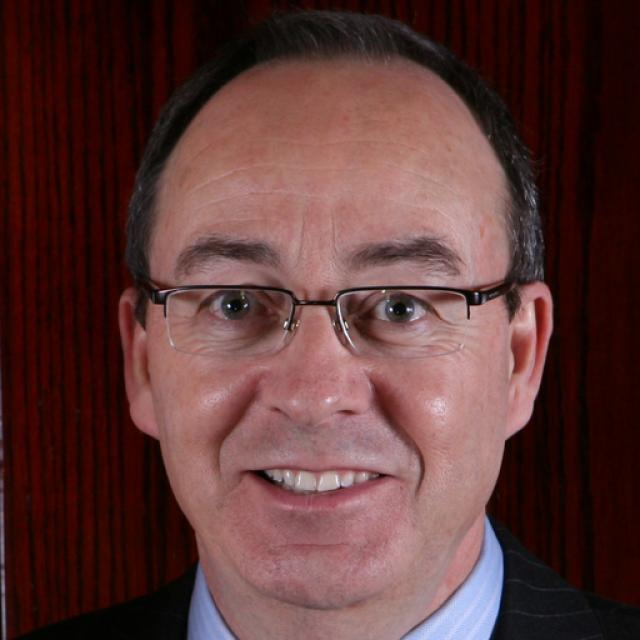Wrinkle: (191, 157, 371, 195), (197, 183, 331, 214), (258, 134, 426, 150), (408, 201, 461, 228)
